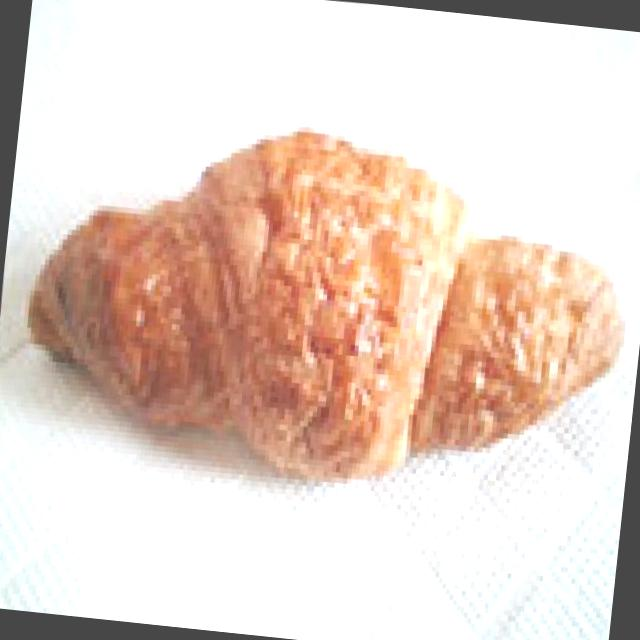Croissant: (21, 86, 640, 520)
